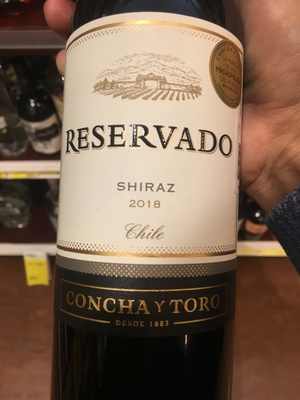reservado shiraz: (57, 9, 243, 400)
